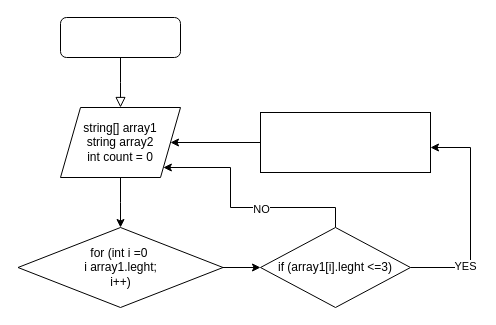
This 496x325 diagram has some shape labels left out. The shapes that lost their labels are listed below. From the top down, each one's centre as x and y in pixels, then its label:
At point (120, 37): "SecondArrayWithif".
At point (345, 142): "array2[count] = array1[i] count++;".
